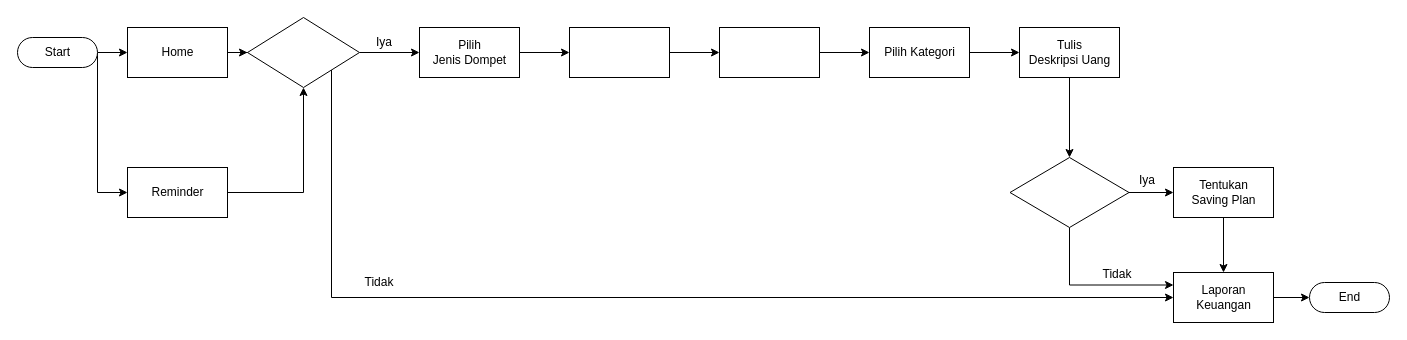
The diagram is 1407 pixels wide and 340 high, and some of its shapes have lost their labels. The shapes that lost their labels are listed below. From the top down, each one's box as (x1, y1, x2, y2) in pixels, then its label:
(246, 16, 360, 88): Mencatat Keuangan
(568, 26, 670, 78): Pilih Jenis Pencatatan
(718, 26, 820, 78): Input Nominal Uang
(1009, 156, 1129, 228): Pemasukan Awal
